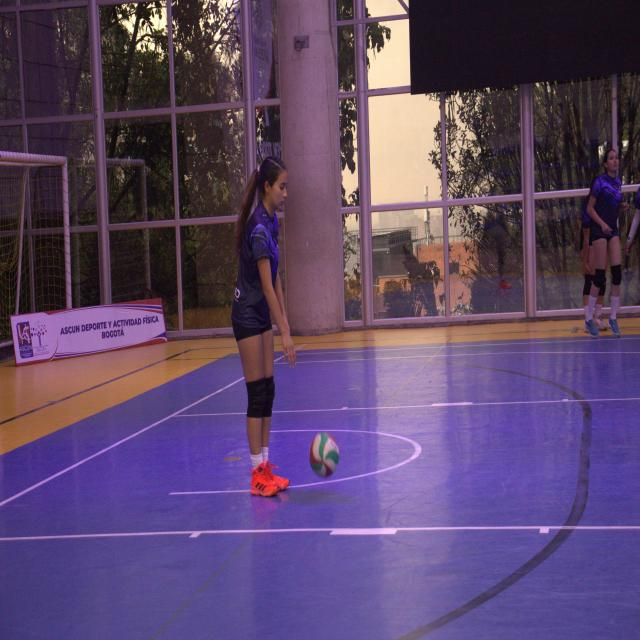volleyball: (310, 430, 339, 479)
